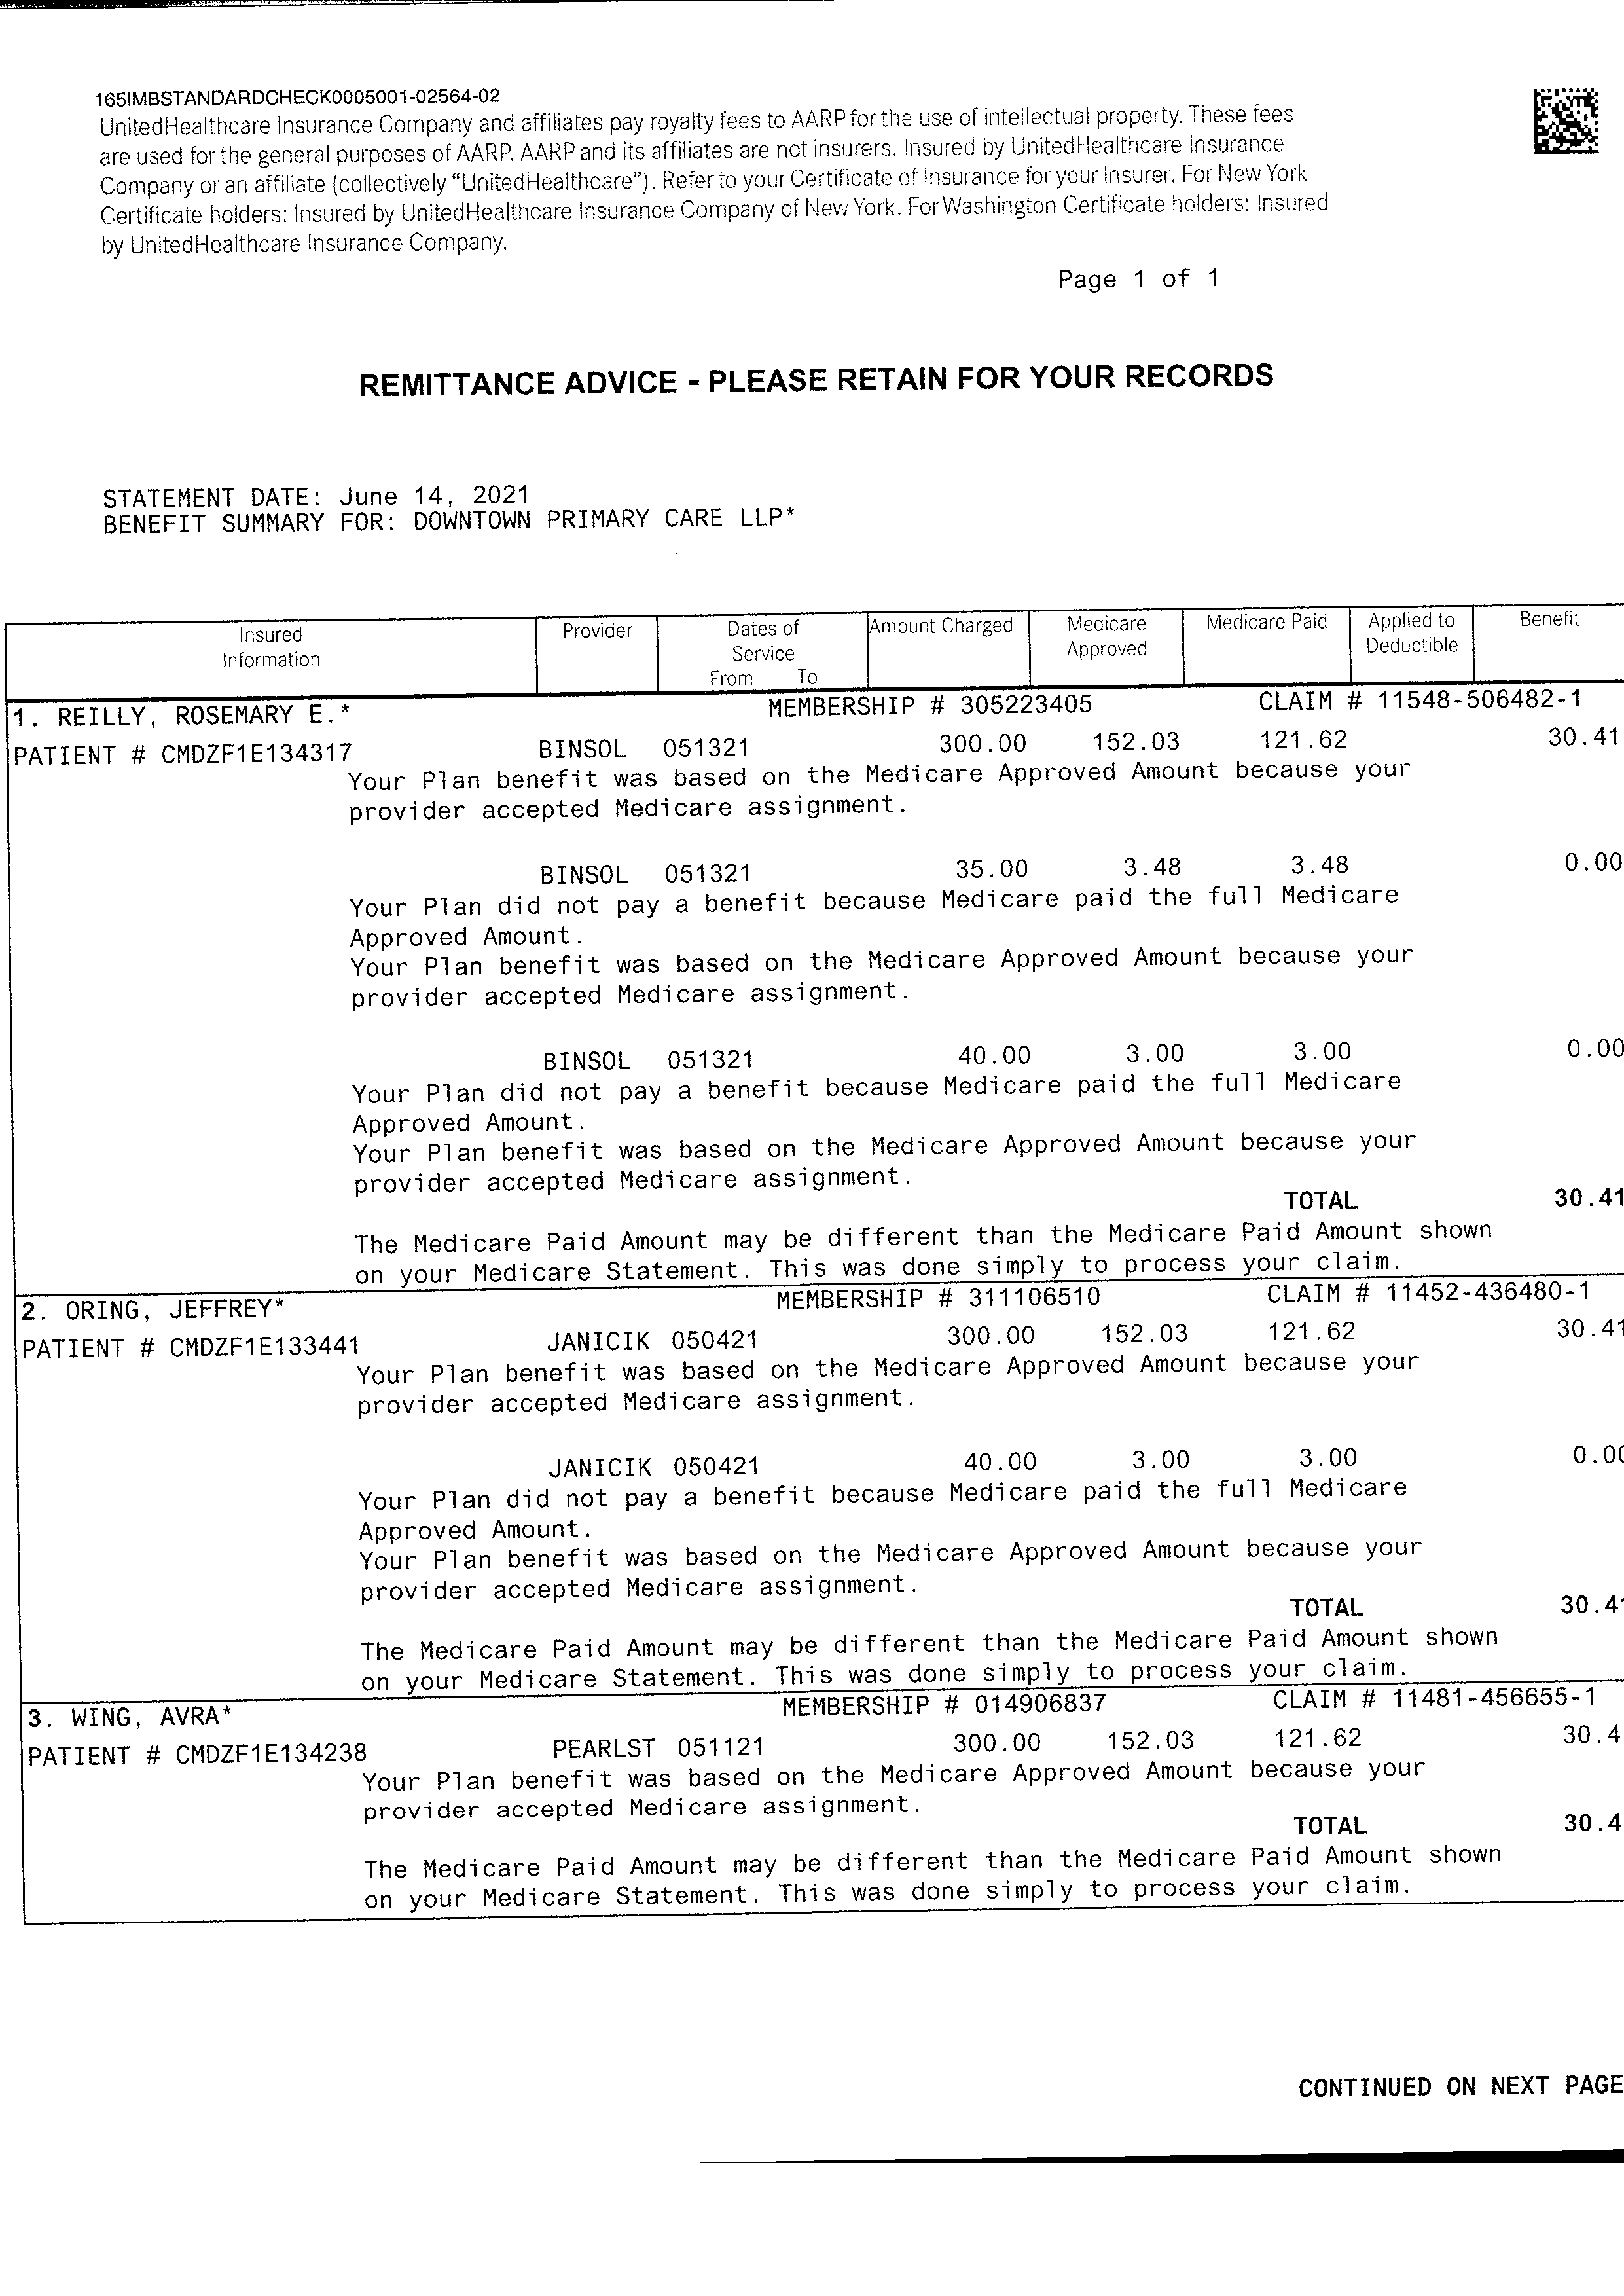table: (5, 585, 1624, 1937)
